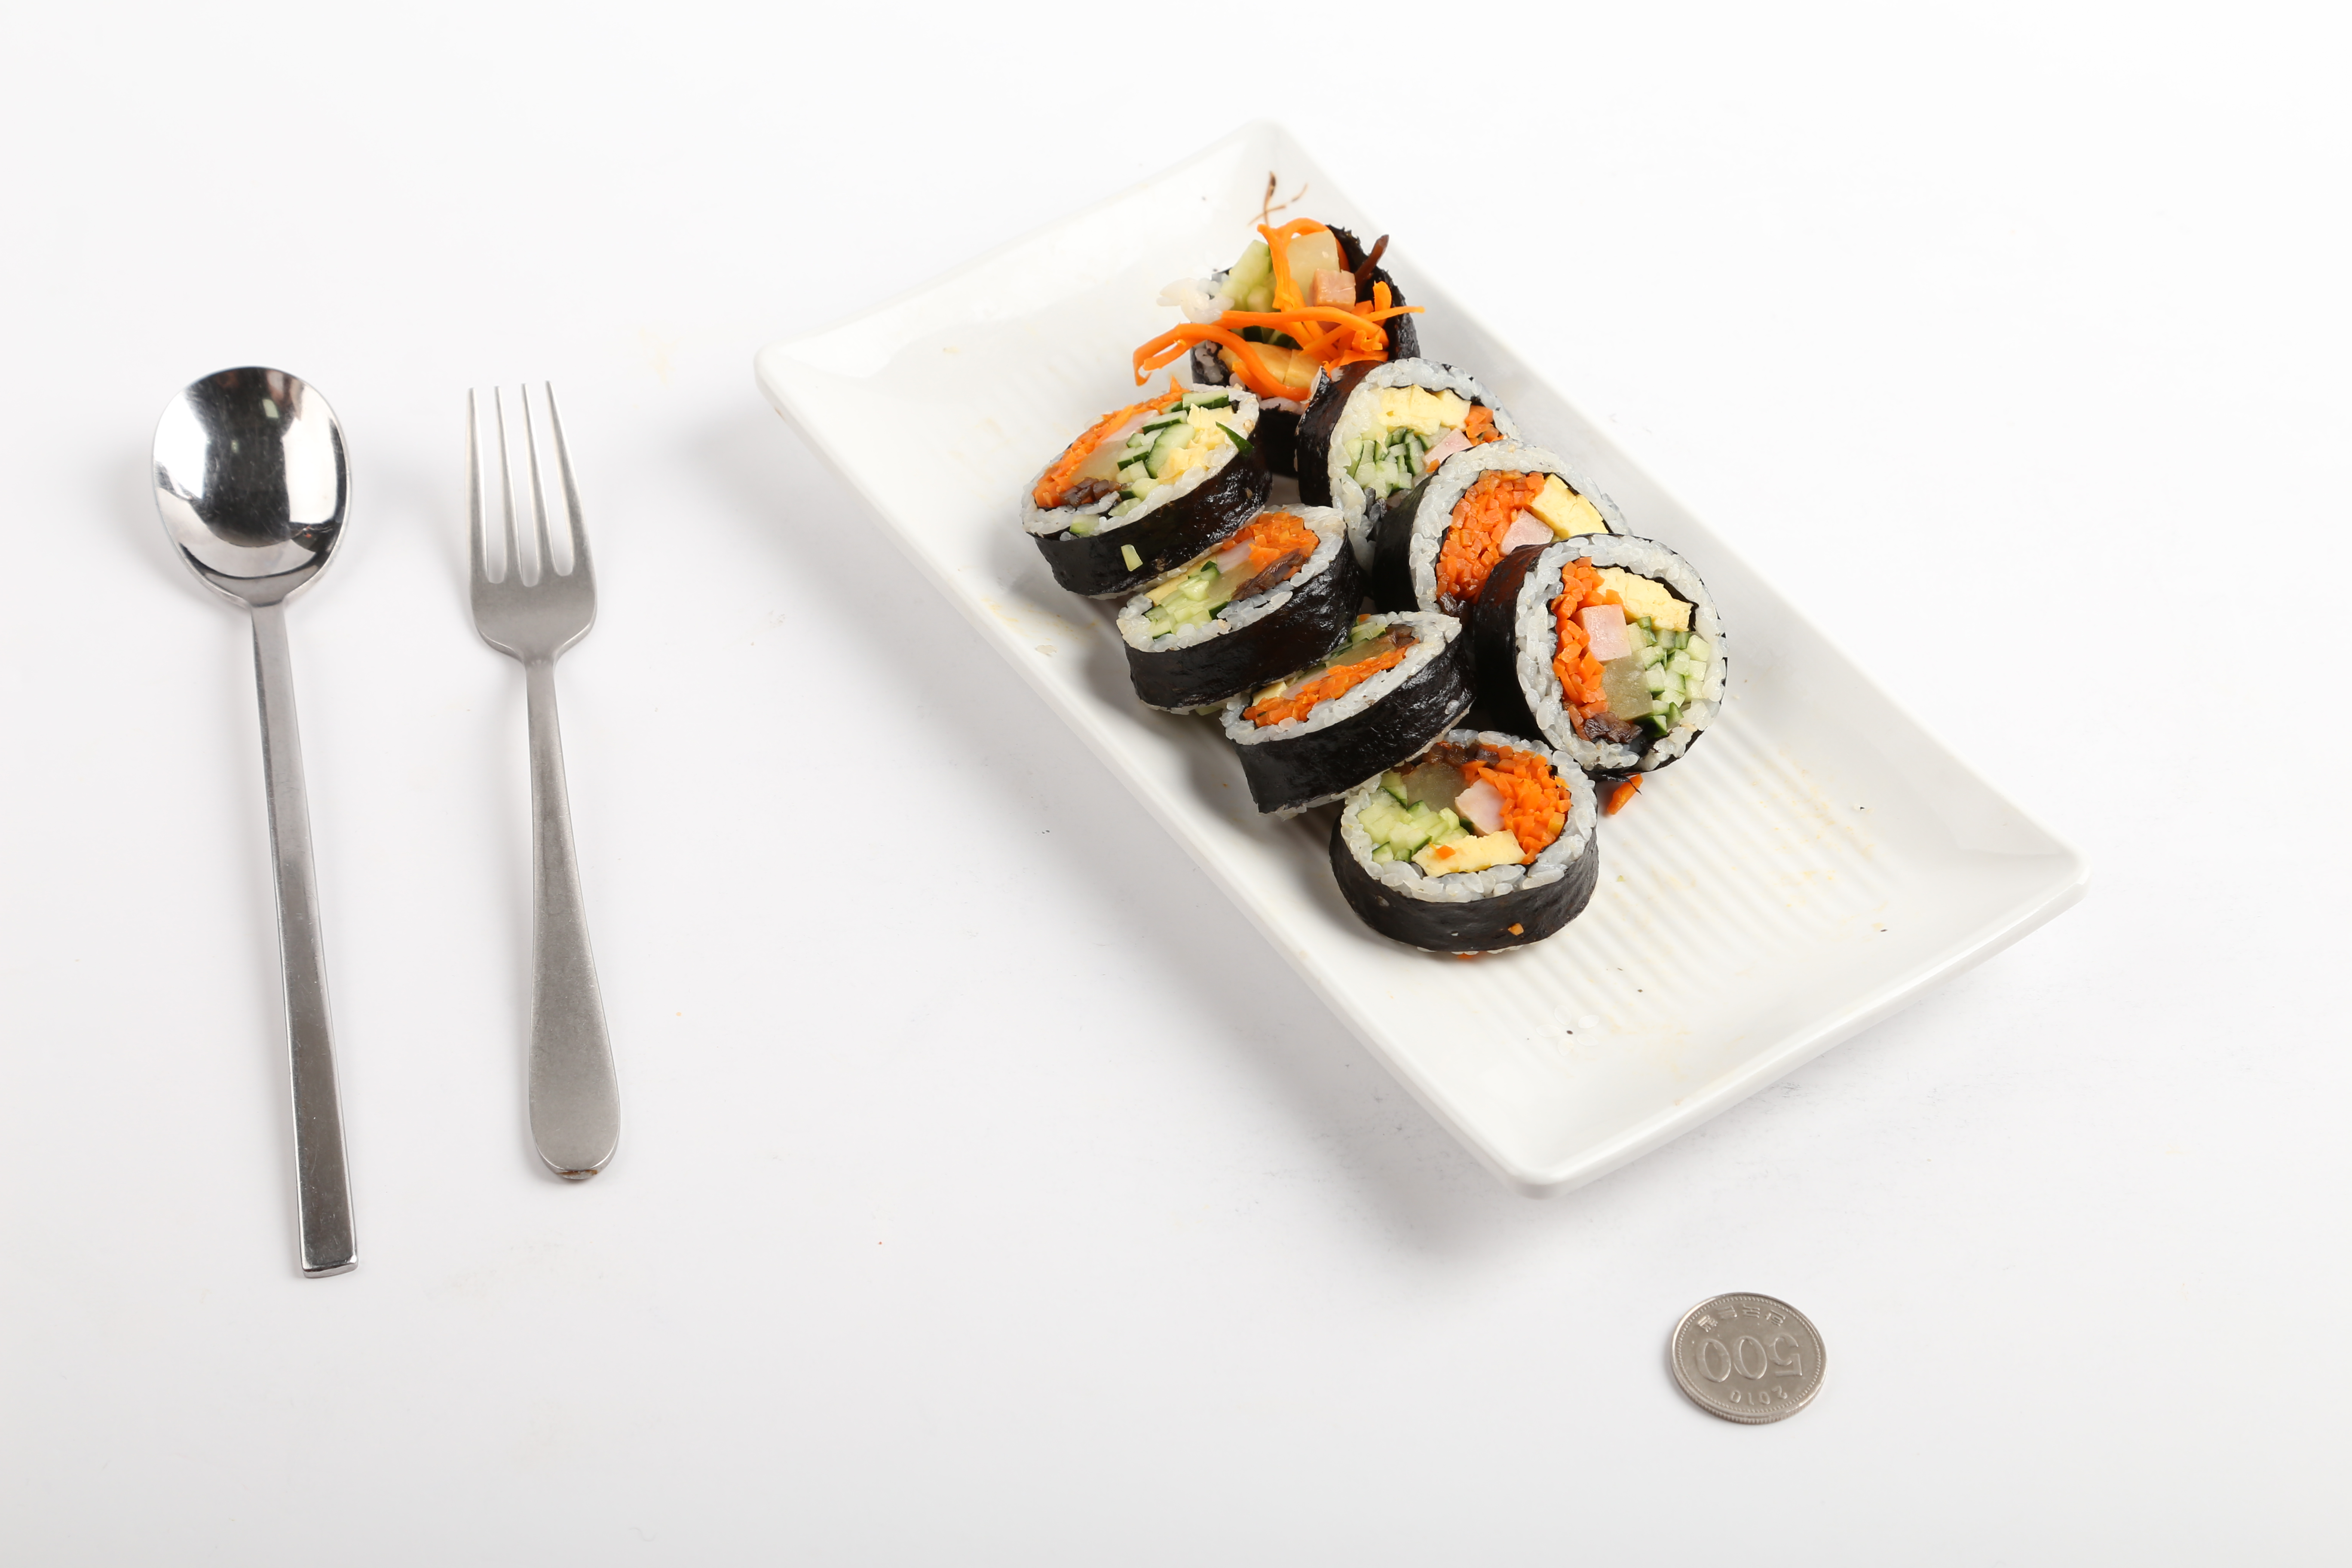dish: (749, 105, 2095, 1200)
ref_coin: (1659, 1281, 1830, 1431)
ref_fork: (460, 374, 602, 719)
ref_spoon: (145, 353, 357, 672)
김밥: (1004, 208, 1734, 966)
